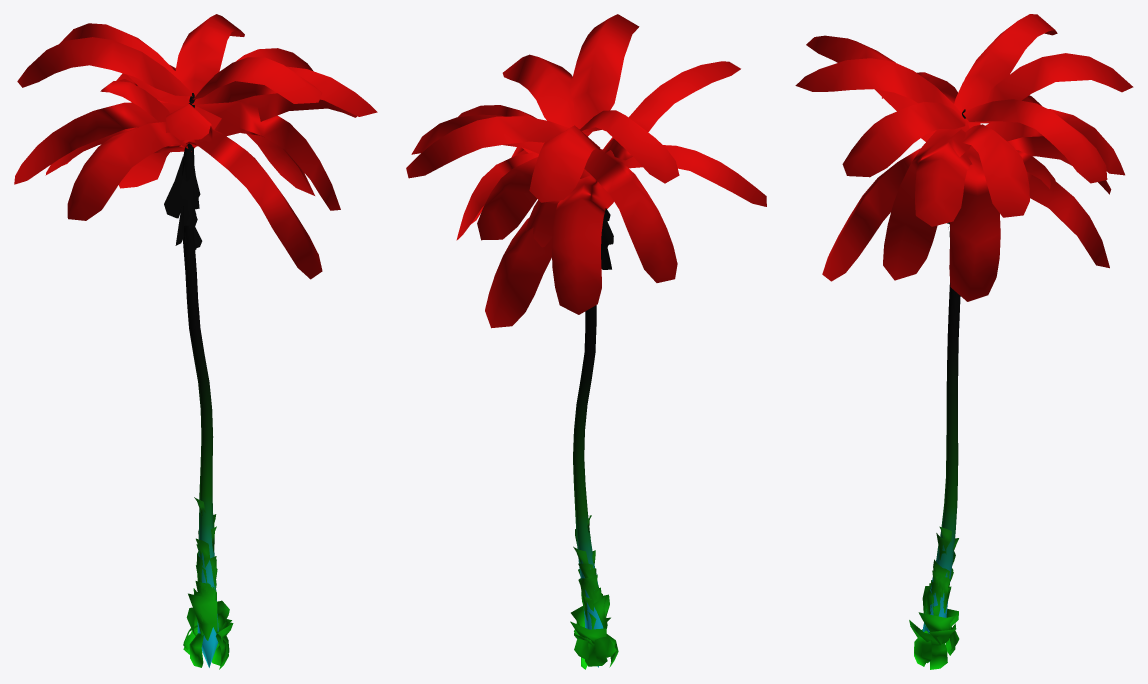
Rendered from Banana4.fbx.
3 views of the same model, side by side, from view 1: azimuth 30°, elevation 25°; view 2: azimuth 150°, elevation 25°; view 3: azimuth 270°, elevation 25° (orthographic). The views are drawn at different scales.
Parts seen in each view (by area): view 1: Banana4_LOD0; view 2: Banana4_LOD0; view 3: Banana4_LOD0.
Boxes of the visible parts, x1,y1,x2,y2 form: Banana4_LOD0: (14, 14, 377, 669); Banana4_LOD0: (406, 14, 766, 669); Banana4_LOD0: (795, 14, 1133, 669).
Size of what is drawn, in the model's own units: 817 by 1577 by 780.
